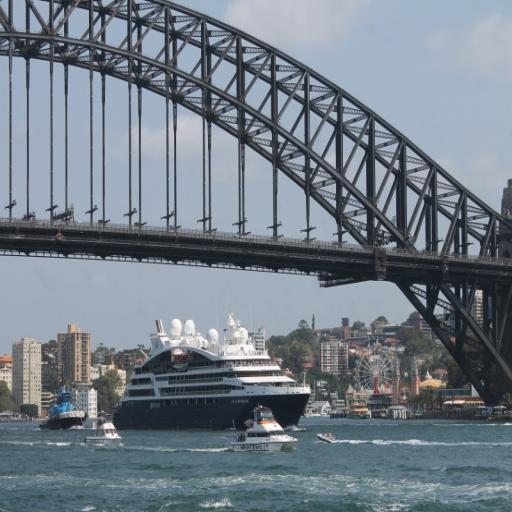cruises: (112, 310, 314, 440)
